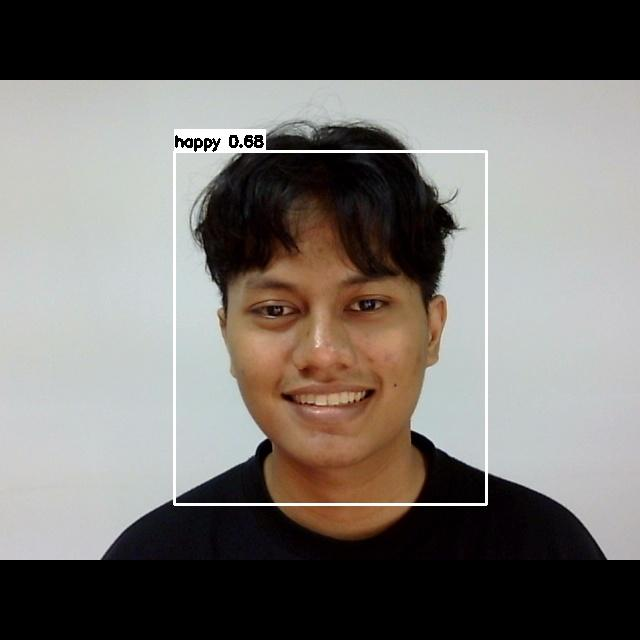Happy: (226, 249, 426, 442)
